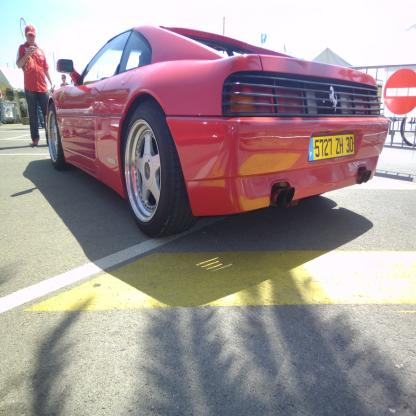Car: (47, 26, 390, 239)
